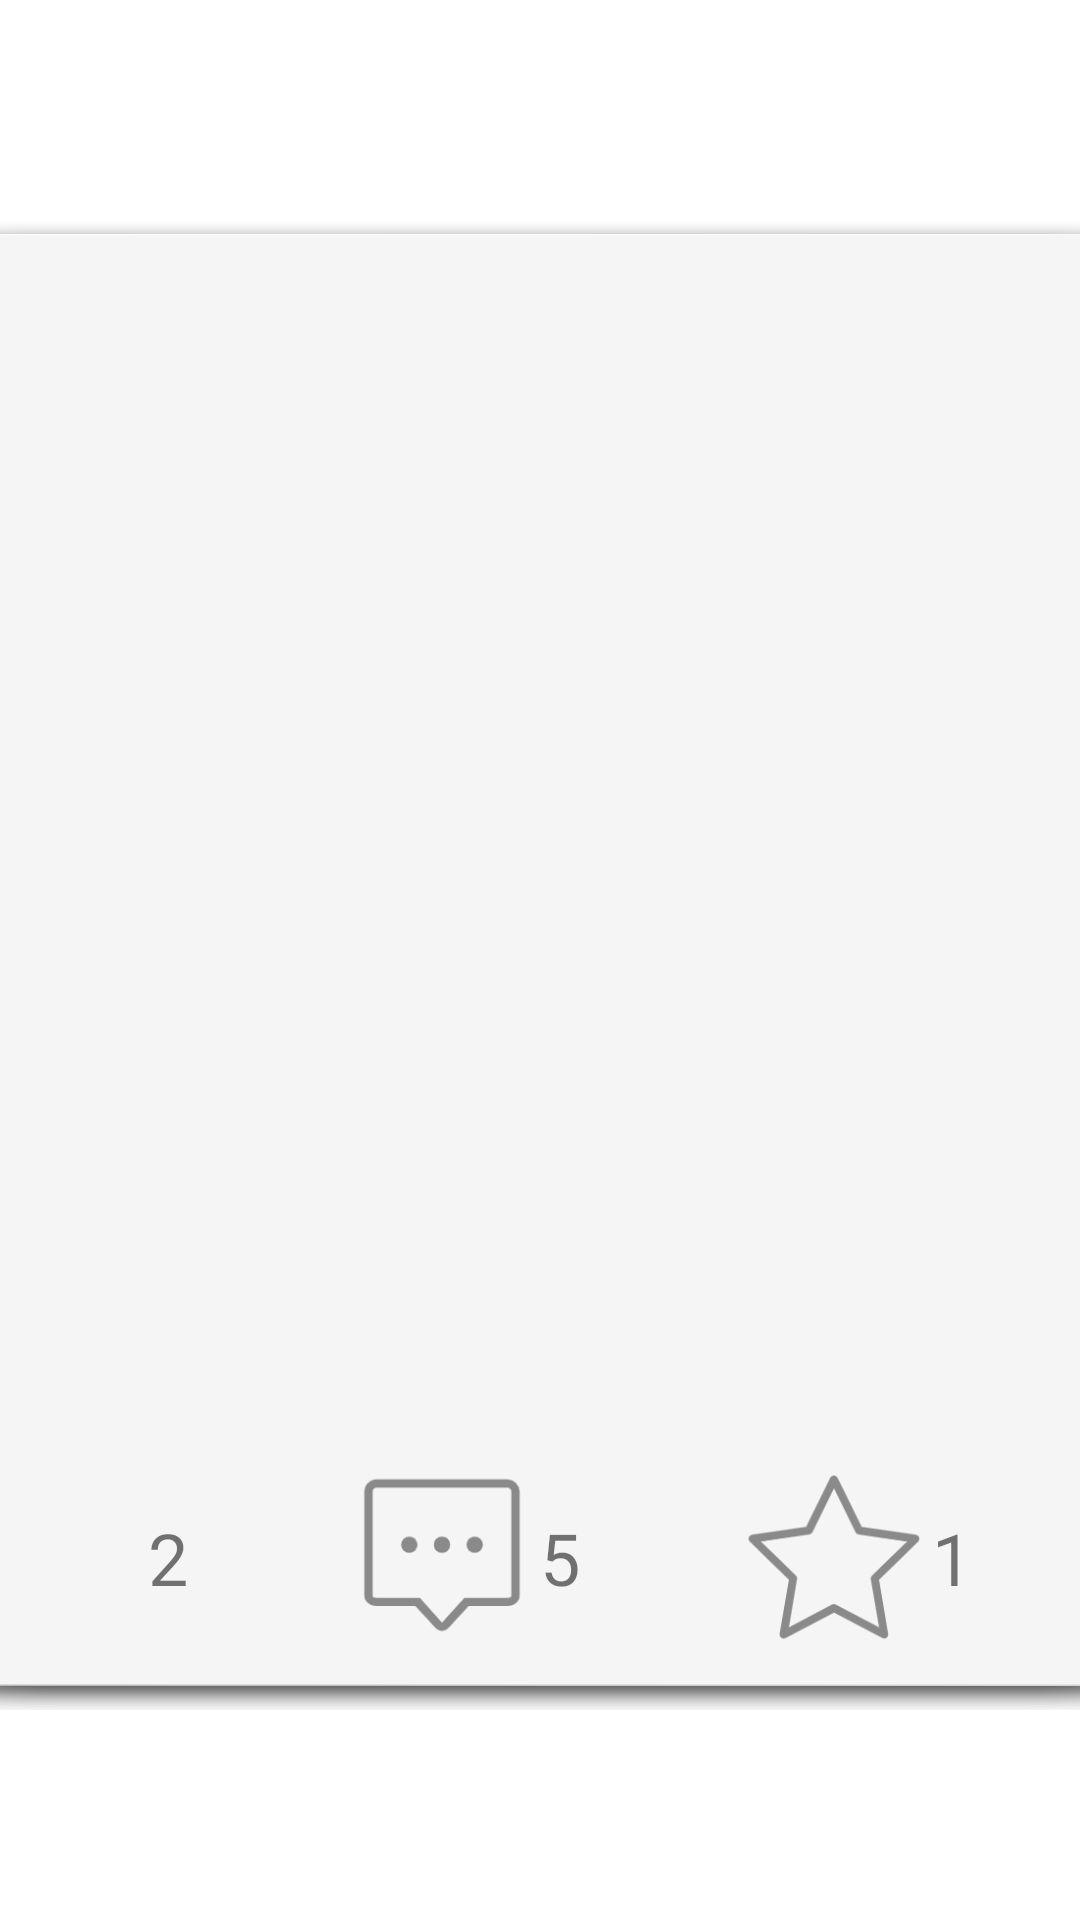

Where to tap for icons on this 1080px x 1920px app screen, as (x,y):
commend: (442,1555)
mark: (834,1557)
